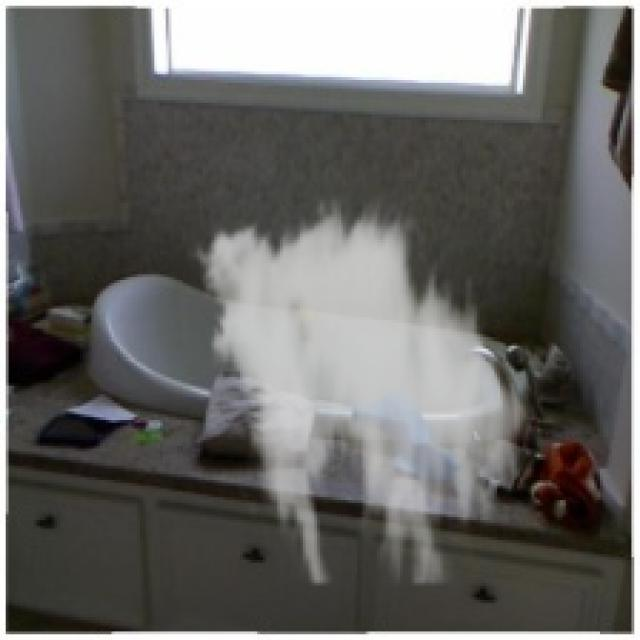Smoke: (185, 194, 538, 586)
